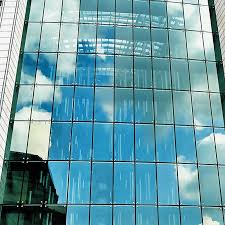glass_panel: (0, 162, 23, 203), (68, 162, 90, 203), (5, 121, 28, 159), (157, 164, 178, 204), (178, 164, 199, 204), (91, 163, 112, 203), (48, 162, 68, 203), (199, 166, 220, 205), (27, 122, 49, 159), (114, 163, 134, 203), (136, 163, 156, 203), (48, 123, 70, 159), (31, 85, 53, 119), (71, 123, 91, 159), (175, 126, 195, 162), (155, 125, 175, 161), (195, 127, 215, 163), (52, 86, 73, 120), (93, 123, 112, 160), (135, 124, 154, 161), (114, 124, 133, 160), (35, 53, 56, 84), (14, 85, 33, 119), (74, 87, 93, 120), (173, 91, 192, 124), (94, 88, 113, 121), (192, 92, 211, 125), (134, 89, 153, 122), (55, 53, 75, 84), (115, 88, 133, 121), (154, 90, 172, 123), (40, 23, 60, 52), (115, 56, 133, 87), (76, 54, 94, 85), (152, 58, 170, 88), (189, 60, 207, 90), (171, 59, 189, 89), (95, 55, 113, 85), (19, 53, 37, 83), (186, 31, 204, 60), (134, 57, 151, 87), (210, 93, 225, 127), (59, 23, 77, 51), (151, 28, 168, 56), (78, 24, 95, 52), (97, 25, 114, 53), (115, 26, 132, 54), (169, 30, 186, 57), (133, 28, 150, 55), (24, 23, 40, 51), (183, 4, 200, 30), (167, 2, 183, 28), (150, 1, 166, 26), (133, 0, 149, 25), (66, 206, 88, 224), (113, 206, 134, 224), (90, 206, 111, 224), (136, 206, 157, 224), (43, 0, 61, 21), (62, 0, 79, 22), (98, 0, 114, 23), (116, 0, 131, 24), (80, 0, 96, 22), (214, 128, 224, 163), (206, 62, 218, 91), (159, 207, 179, 224), (181, 207, 201, 224), (202, 208, 223, 224), (203, 32, 214, 60), (29, 0, 43, 21), (200, 6, 211, 31), (219, 166, 224, 204)
